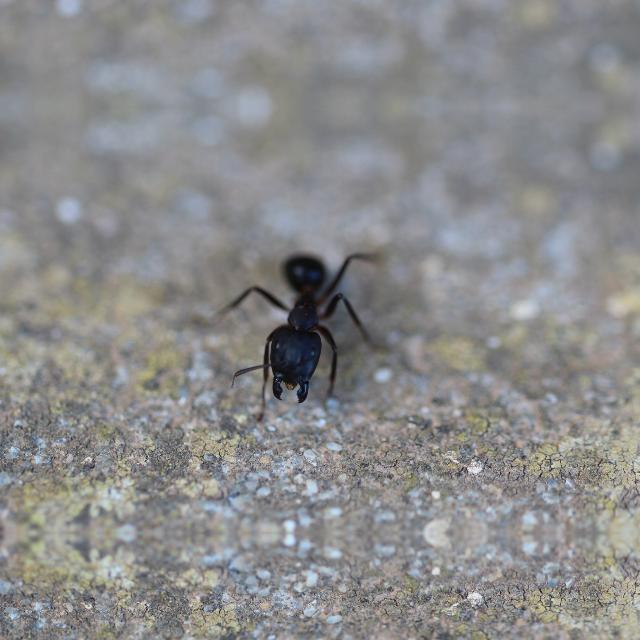Camponotus: (206, 222, 372, 406)
